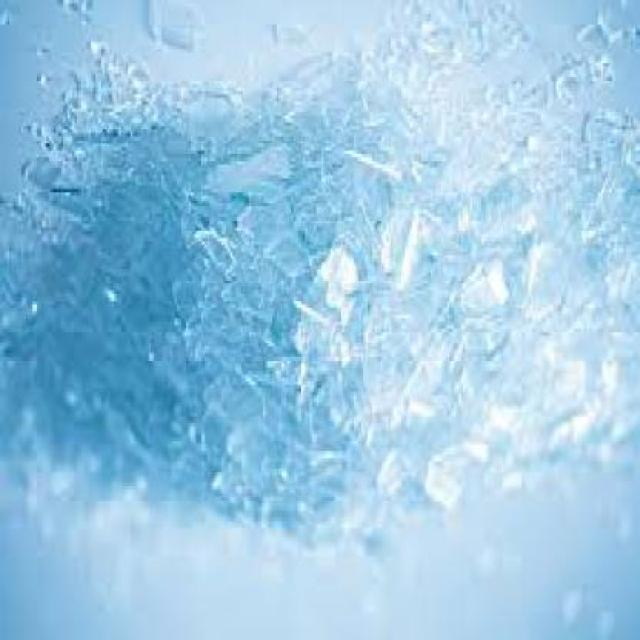GLASS: (12, 318, 188, 538), (158, 175, 328, 360), (366, 269, 572, 417), (482, 70, 638, 262), (30, 182, 188, 350), (276, 231, 452, 374), (342, 63, 501, 220), (474, 136, 638, 276), (19, 90, 166, 244), (196, 81, 346, 224), (60, 301, 168, 479), (338, 361, 498, 468), (251, 448, 398, 560), (386, 364, 531, 476), (298, 206, 414, 346), (94, 74, 214, 203), (0, 196, 77, 378), (138, 371, 233, 514), (272, 269, 354, 426), (188, 408, 288, 528), (545, 258, 637, 382), (554, 364, 638, 476), (421, 3, 514, 99), (326, 66, 419, 143), (68, 45, 140, 144), (354, 441, 431, 528), (530, 66, 601, 140), (415, 437, 479, 514), (493, 448, 564, 510), (582, 94, 638, 168), (565, 4, 638, 59), (144, 4, 188, 62), (391, 4, 440, 56)
